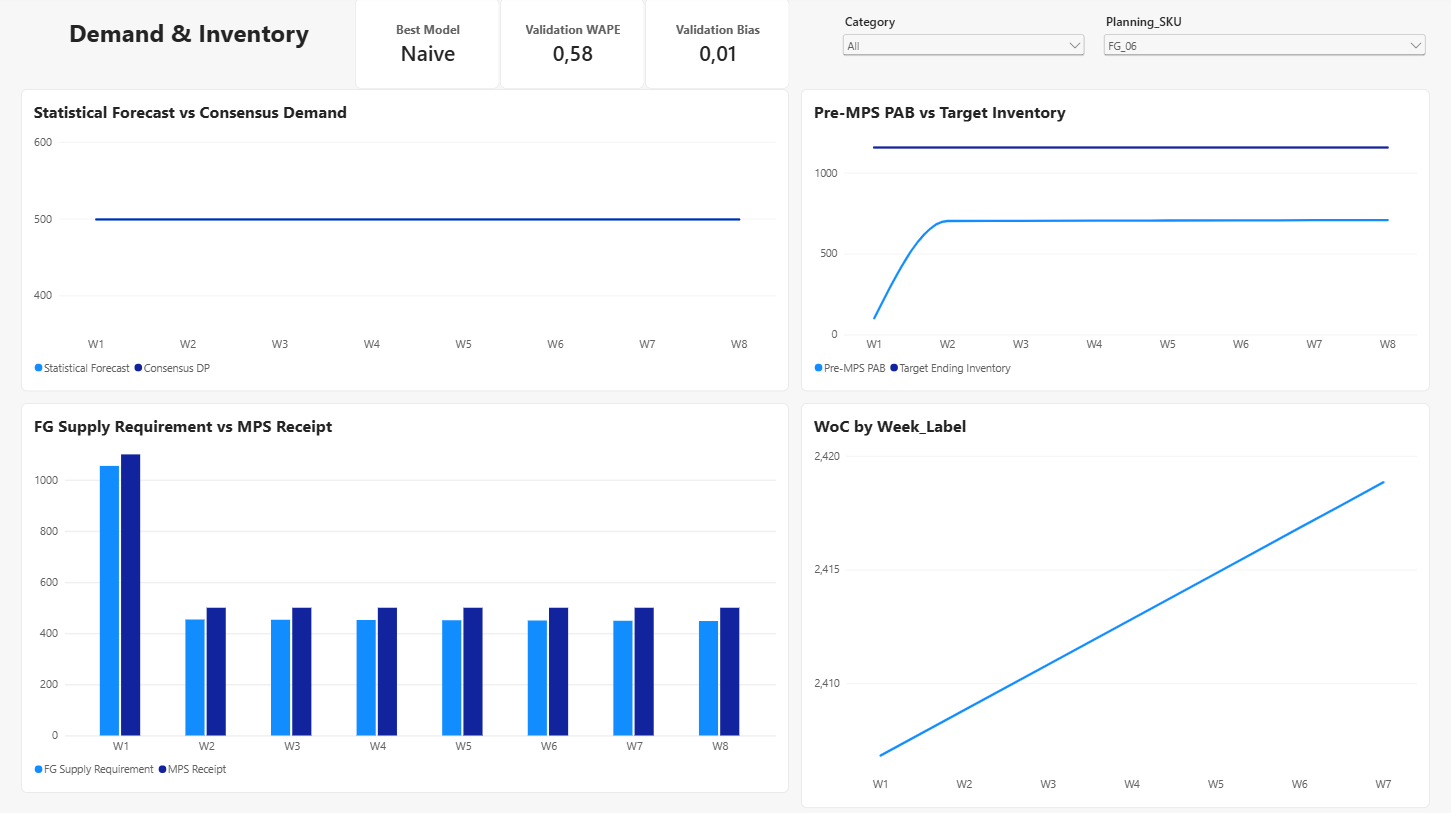

The dashboard page shown, as its layout file describes it:
{"tool":"powerbi","page":{"name":"Demand & Inventory","canvas":[1920,1080],"ordinal":1},"visuals":[{"type":"slicer","fields":{"Values":["Dim_FG.Planning_SKU"]},"box":[1456,20,436,64],"z":0},{"type":"slicer","fields":{"Values":["Dim_FG.Category"]},"box":[1110,20,330,64],"z":1000},{"type":"lineChart","title":"Statistical Forecast vs Consensus Demand","fields":{"Category":["Dim_Week.Week_Label"],"Y":["Dim_FG.Statistical Forecast","Dim_FG.Consensus DP"]},"box":[28,120,1016,400],"z":2000},{"type":"lineChart","title":"Pre-MPS PAB vs Target Inventory","fields":{"Category":["Dim_Week.Week_Label"],"Y":["Measure Table (DAX).Pre-MPS PAB","Measure Table (DAX).Target Ending Inventory"]},"box":[1060,120,832,400],"z":3000},{"type":"clusteredColumnChart","title":"FG Supply Requirement vs MPS Receipt","fields":{"Category":["Dim_Week.Week_Label"],"Y":["Measure Table (DAX).FG Supply Requirement","Fact_Inventory.MPS Receipt"]},"box":[28,536,1016,516],"z":4000},{"type":"lineChart","fields":{"Category":["Dim_Week.Week_Label"],"Y":["Measure Table (DAX).WoC"]},"box":[1060,536,832,536],"z":5000},{"type":"textbox","box":[28.6,24.3,441.4,44.3],"z":6000},{"type":"cardVisual","fields":{"Data":["Measure Table (DAX).Validation Bias"]},"box":[852.9,0,191.4,120],"z":7000},{"type":"cardVisual","fields":{"Data":["Measure Table (DAX).Validation WAPE"]},"box":[661.4,0,191.4,120],"z":8000},{"type":"cardVisual","fields":{"Data":["Measure Table (DAX).Best Model"]},"box":[470,0,191.4,120],"z":9000}]}

Visuals, with their boxes in screenshot pixels (x1, y1, x2, y2), scaled from the page's 1920x1080 canvas onto the 1451x813 screenshot:
slicer - Dim_FG.Planning_SKU: box=[1100, 15, 1430, 63]
slicer - Dim_FG.Category: box=[839, 15, 1088, 63]
"Statistical Forecast vs Consensus Demand" lineChart: box=[21, 90, 789, 391]
"Pre-MPS PAB vs Target Inventory" lineChart: box=[801, 90, 1430, 391]
"FG Supply Requirement vs MPS Receipt" clusteredColumnChart: box=[21, 403, 789, 792]
lineChart - Dim_Week.Week_Label x Measure Table (DAX).WoC: box=[801, 403, 1430, 807]
textbox: box=[22, 18, 355, 52]
cardVisual - Measure Table (DAX).Validation Bias: box=[645, 0, 789, 90]
cardVisual - Measure Table (DAX).Validation WAPE: box=[500, 0, 644, 90]
cardVisual - Measure Table (DAX).Best Model: box=[355, 0, 500, 90]
